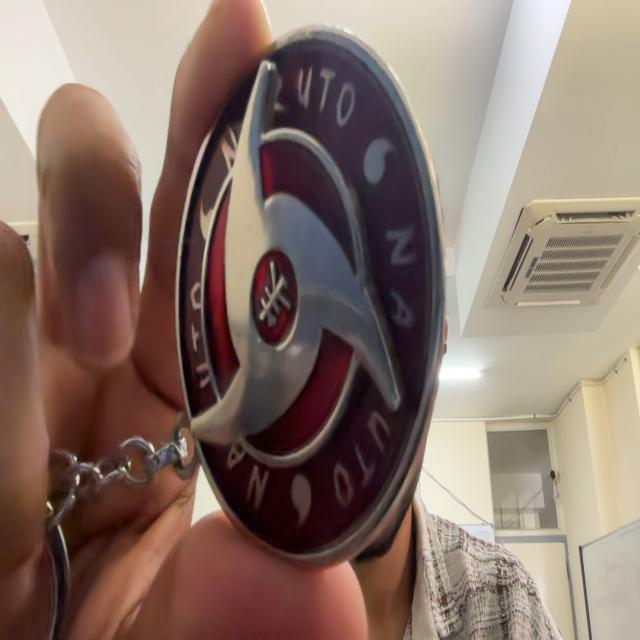dangerous: (45, 27, 445, 639)
